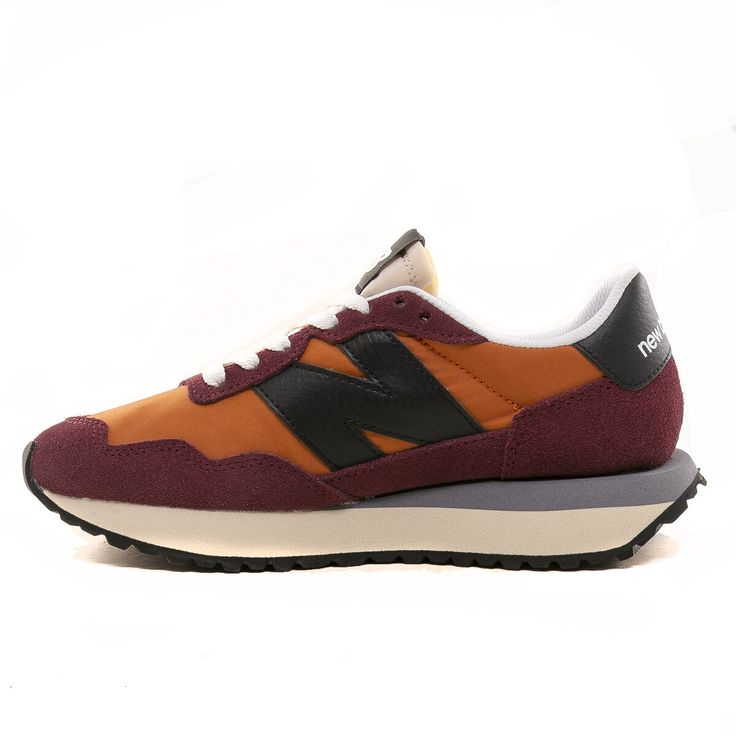gamuza: (32, 292, 685, 513)
